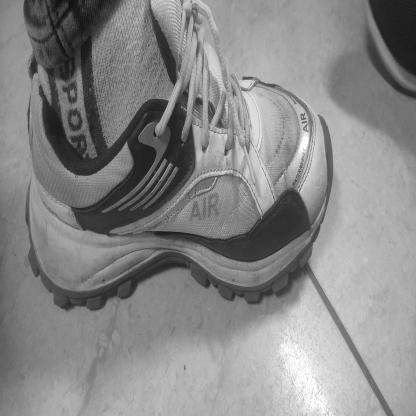ankle: (105, 157, 110, 173)
heel: (33, 206, 38, 220)
left_foot: (28, 3, 335, 311)
pinky: (246, 86, 251, 98)
toe: (313, 187, 317, 195)
